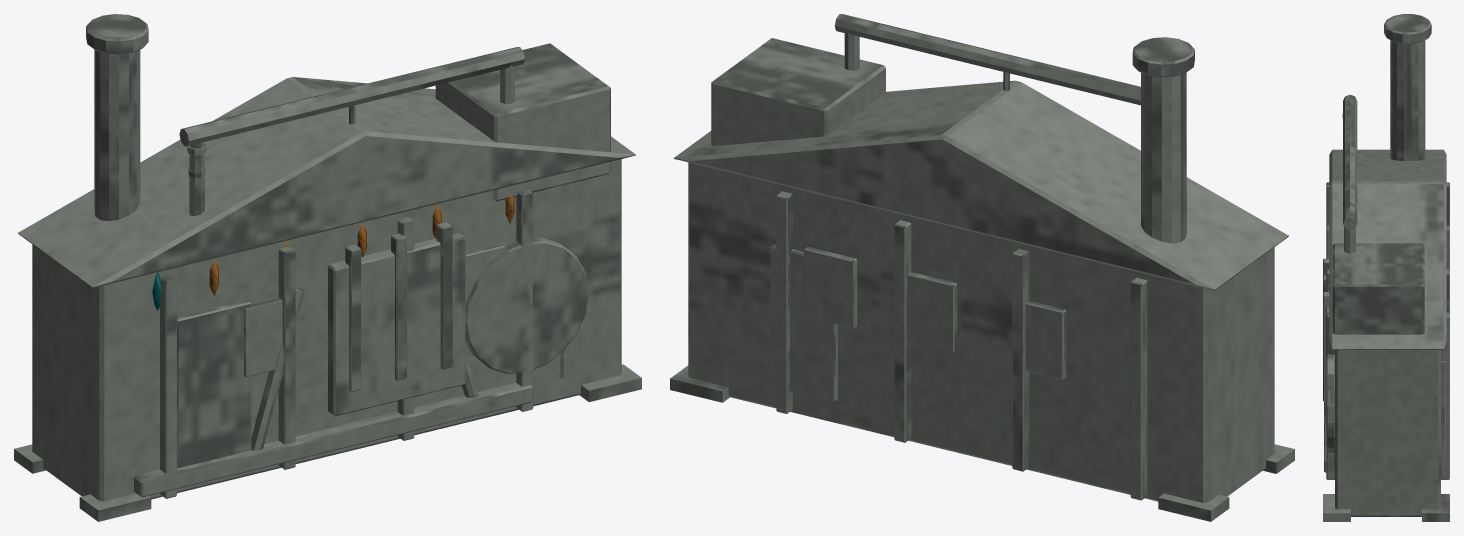
File: stamp-mill.e8.glb
3 views of the same model, side by side, from view 1: azimuth 30°, elevation 25°; view 2: azimuth 150°, elevation 25°; view 3: azimuth 270°, elevation 25° (orthographic). The views are drawn at different scales.
Parts seen in each view (by area): view 1: StampMillE8MassDriverRail; view 2: StampMillE8MassDriverRail; view 3: StampMillE8MassDriverRail.
Boxes of the visible parts, box(x1,y1,x2,y2) form: StampMillE8MassDriverRail: box(14, 14, 641, 521); StampMillE8MassDriverRail: box(670, 14, 1294, 521); StampMillE8MassDriverRail: box(1323, 14, 1449, 521).
Size of the model in its own units: 5.95 by 4.56 by 1.6.
Materials: 1 (1 with a texture image).
